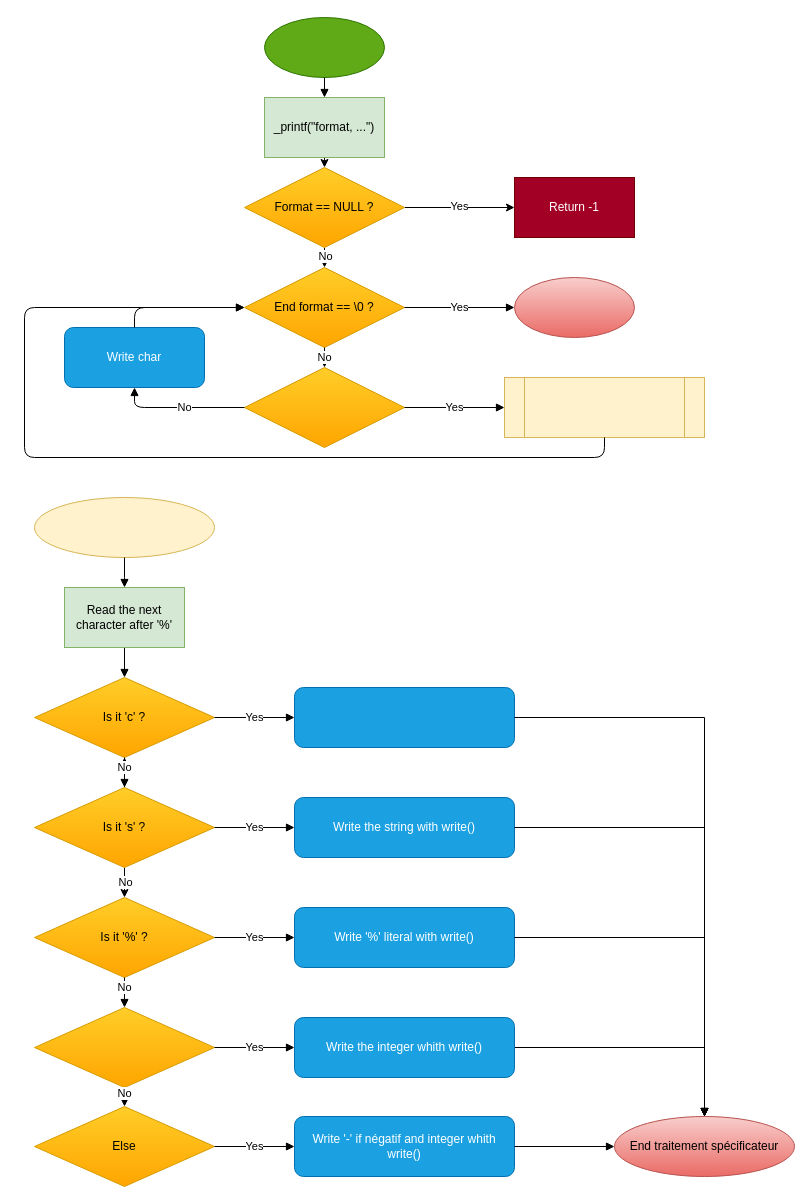
Some shapes in this 812 by 1204 pixel diagram are drawn without their labels. Here are the shapes that lost their labels. From the top down, the box of each, then its label:
(264, 16, 384, 78): Start
(514, 276, 634, 338): End return count
(244, 366, 404, 448): Next char is '%'?
(504, 376, 704, 438): Specifying treatment
(34, 496, 214, 558): Start processing specifier
(294, 686, 514, 748): Write the character with write()
(34, 1006, 214, 1088): Is it 'd' or 'i' ?
